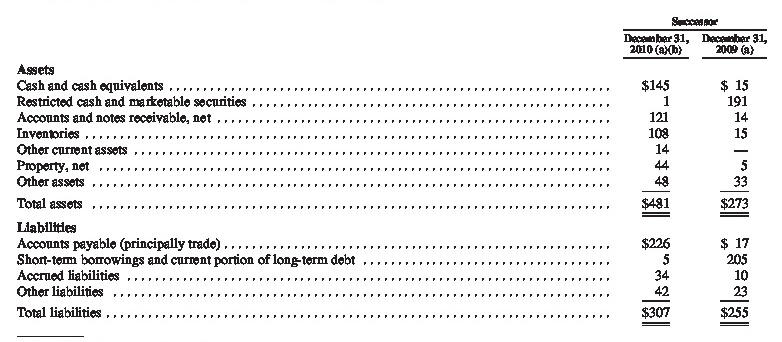table: (0, 0, 782, 342)
